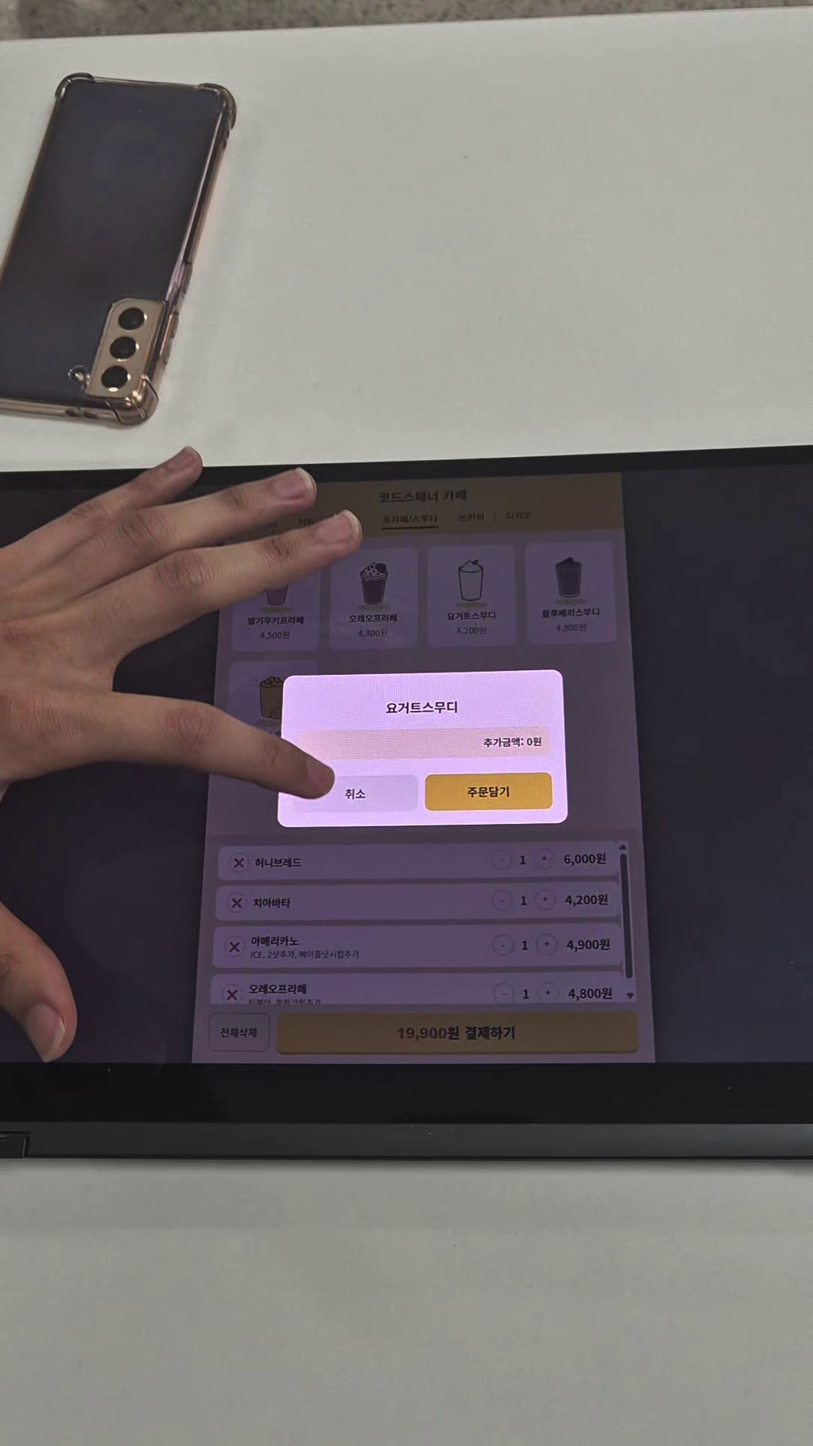action_button: (276, 1012, 639, 1054), (425, 772, 553, 810), (291, 775, 418, 813), (209, 1012, 270, 1051)
popup_modal: (277, 670, 567, 827)
